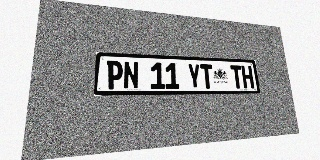1: (150, 62, 165, 89), (165, 63, 179, 89)
H: (241, 65, 254, 88)
N: (123, 61, 139, 89)
P: (106, 60, 123, 89)
T: (200, 64, 214, 89), (230, 65, 243, 88)
Y: (187, 63, 201, 89)
